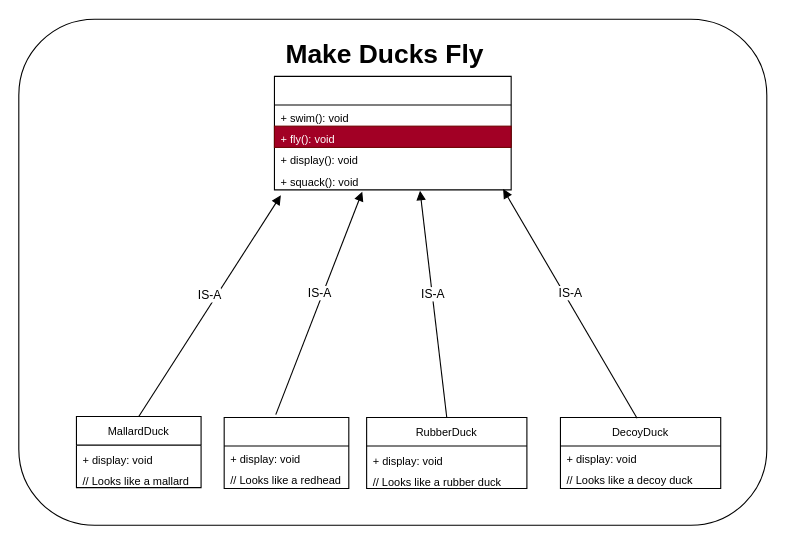
The diagram is 787 pixels wide and 545 high, and some of its shapes have lost their labels. Here are the shapes that lost their labels. From the top down, the box of each, then its label:
(273, 75, 511, 190): Duck
(223, 416, 349, 489): RedHeadDuck
